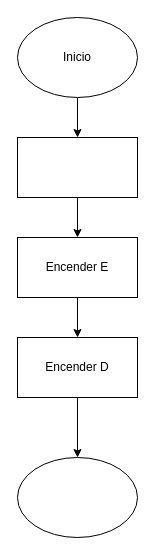
This 155x555 diagram has some shape labels left out. The shapes that lost their labels are listed below. From the top down, each one's centre as x and y in pixels, then its label:
the point at 77,167: Encender G
the point at 77,497: FIN
